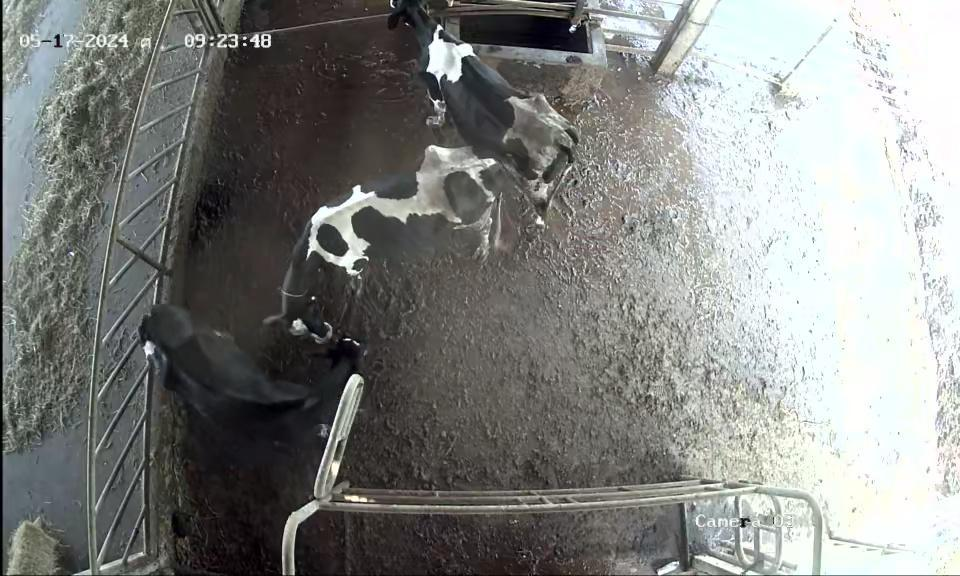stand: (235, 120, 522, 339), (380, 0, 606, 209), (140, 301, 379, 457)
